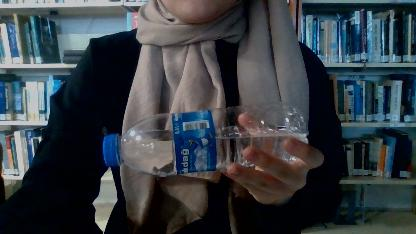Plastic Bottle: (104, 102, 312, 178)
